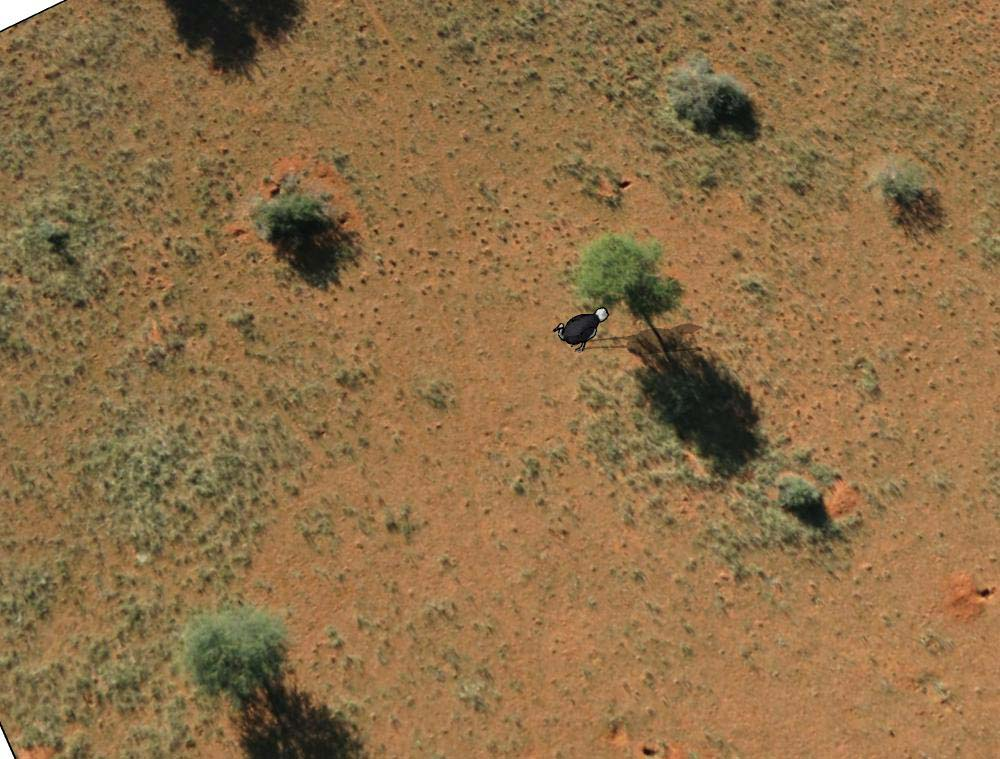springbok: (555, 304, 609, 357)
